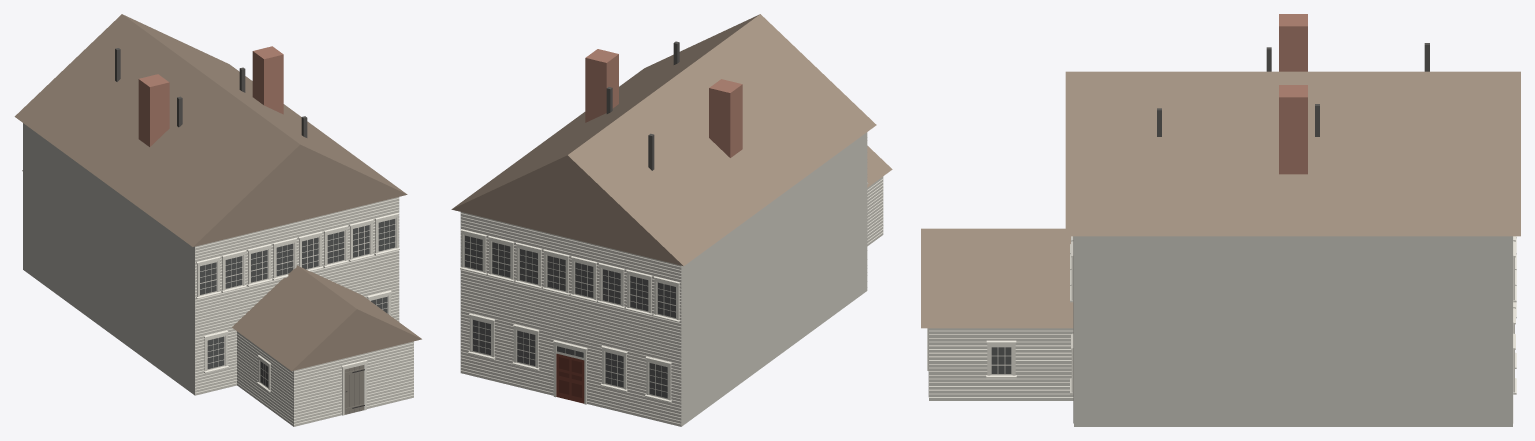
File: recon_1835_blk_washington_clinton_h3_02__inferred_1835.glb
3 views of the same model, side by side, from view 1: azimuth 30°, elevation 25°; view 2: azimuth 150°, elevation 25°; view 3: azimuth 270°, elevation 25° (orthographic). The views are drawn at different scales.
Parts seen in each view (by area): view 1: recon_1835_blk_washington_clinton_h3_02__inferred_1835; view 2: recon_1835_blk_washington_clinton_h3_02__inferred_1835; view 3: recon_1835_blk_washington_clinton_h3_02__inferred_1835.
Boxes of the visible parts, bbox=[...] form: recon_1835_blk_washington_clinton_h3_02__inferred_1835: bbox=[14, 14, 421, 426]; recon_1835_blk_washington_clinton_h3_02__inferred_1835: bbox=[451, 14, 892, 426]; recon_1835_blk_washington_clinton_h3_02__inferred_1835: bbox=[921, 14, 1520, 426].
Bounding box in the file's own units: 9.85 × 10.56 × 18.65.
